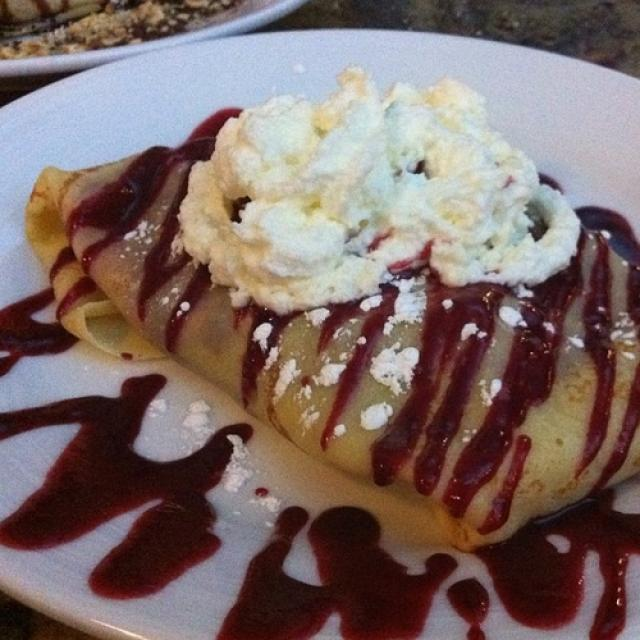蛋糕甜品: (9, 52, 635, 608)
